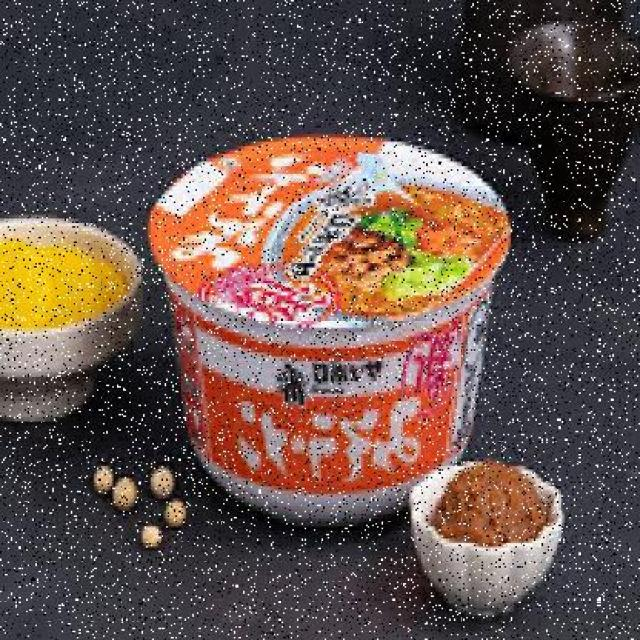Miscellaneous: (142, 136, 504, 530)
